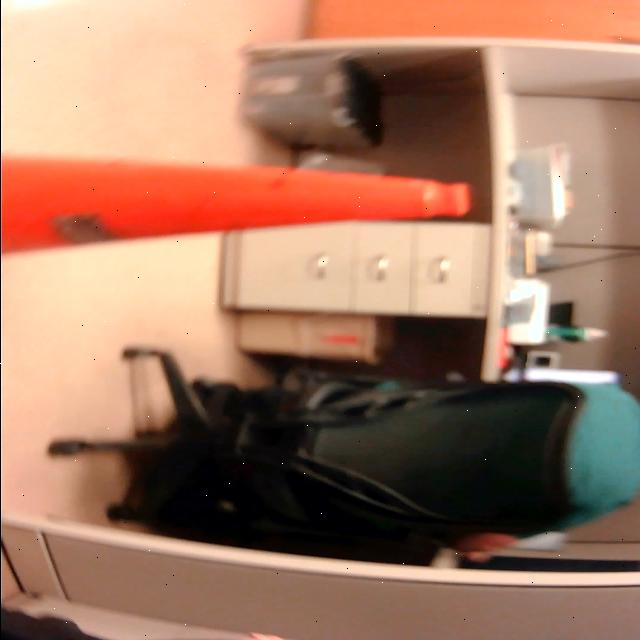traffic cone: (1, 148, 478, 262)
